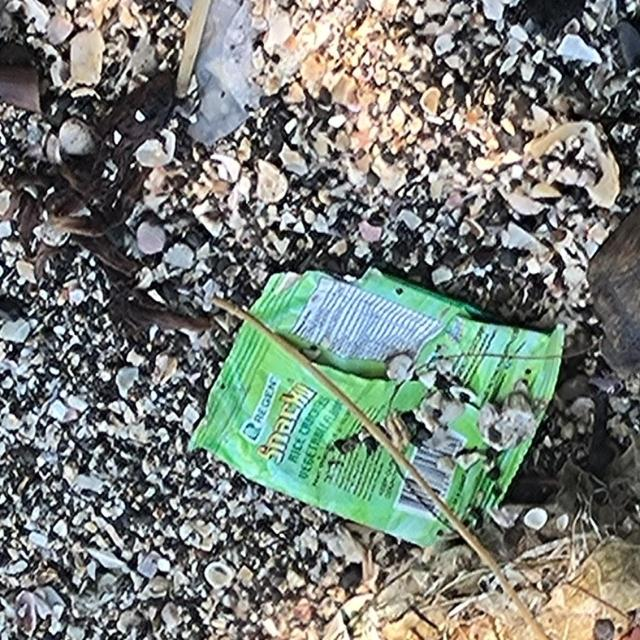plastic_waste: (185, 264, 569, 550)
